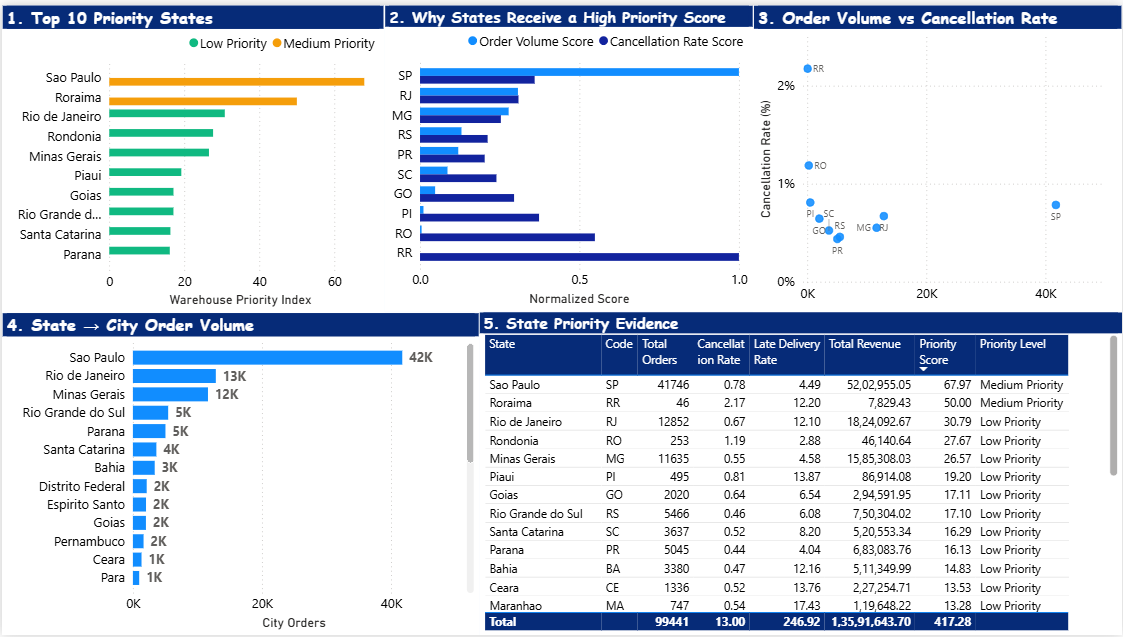

The page's visual inventory and layout, read from the dashboard file:
{"tool":"powerbi","page":{"name":"Priority Analysis","canvas":[1280,720],"ordinal":1},"visuals":[{"type":"clusteredBarChart","title":"1. Top 10 Priority States","fields":{"Category":["public dim_state.state_name"],"Y":["Sum(public executive_recommendation.warehouse_priority_index)"],"Series":["public executive_recommendation.priority_label"]},"box":[0,0,437.1,351.4],"z":0},{"type":"clusteredBarChart","title":"2. Why States Receive a High Priority Score","fields":{"Category":["public dim_state.state_code"],"Y":["Sum(public warehouse_priority_state.norm_volume)","Sum(public warehouse_priority_state.norm_cancel_rate)"]},"box":[437.1,0,421.4,350],"z":1000},{"type":"scatterChart","title":"3. Order Volume vs Cancellation Rate","fields":{"Category":["public dim_state.state_code"],"X":["Sum(public executive_recommendation.total_orders)"],"Y":["public dim_customer.Cancellation Rate Scatter"]},"box":[858.6,0,421.4,351.4],"z":2000},{"type":"clusteredBarChart","title":"4. State → City Order Volume","fields":{"Category":["public dim_state.state_name","public dim_customer.customer_city"],"Y":["public dim_customer.City Orders"]},"box":[0,351.4,545.7,368.6],"z":3000},{"type":"tableEx","title":"5. State Priority Evidence","fields":{"Values":["public warehouse_priority_state.state_name","public warehouse_priority_state.state_code","Sum(public warehouse_priority_state.total_orders)","Sum(public warehouse_priority_state.cancellation_rate)","Sum(public warehouse_priority_state.late_delivery_rate)","Sum(public warehouse_priority_state.total_revenue)","Sum(public warehouse_priority_state.warehouse_priority_index)","public warehouse_priority_state.priority_label"]},"box":[545.7,351.4,734.3,368.6],"z":4000}]}

Visuals, with their boxes in screenshot pixels (x1, y1, x2, y2), scaled from the page's 1280x720 canvas onto the 1123x637 screenshot:
"1. Top 10 Priority States" clusteredBarChart: left=0, top=0, right=383, bottom=311
"2. Why States Receive a High Priority Score" clusteredBarChart: left=383, top=0, right=753, bottom=310
"3. Order Volume vs Cancellation Rate" scatterChart: left=753, top=0, right=1122, bottom=311
"4. State → City Order Volume" clusteredBarChart: left=0, top=311, right=479, bottom=636
"5. State Priority Evidence" tableEx: left=479, top=311, right=1122, bottom=636
